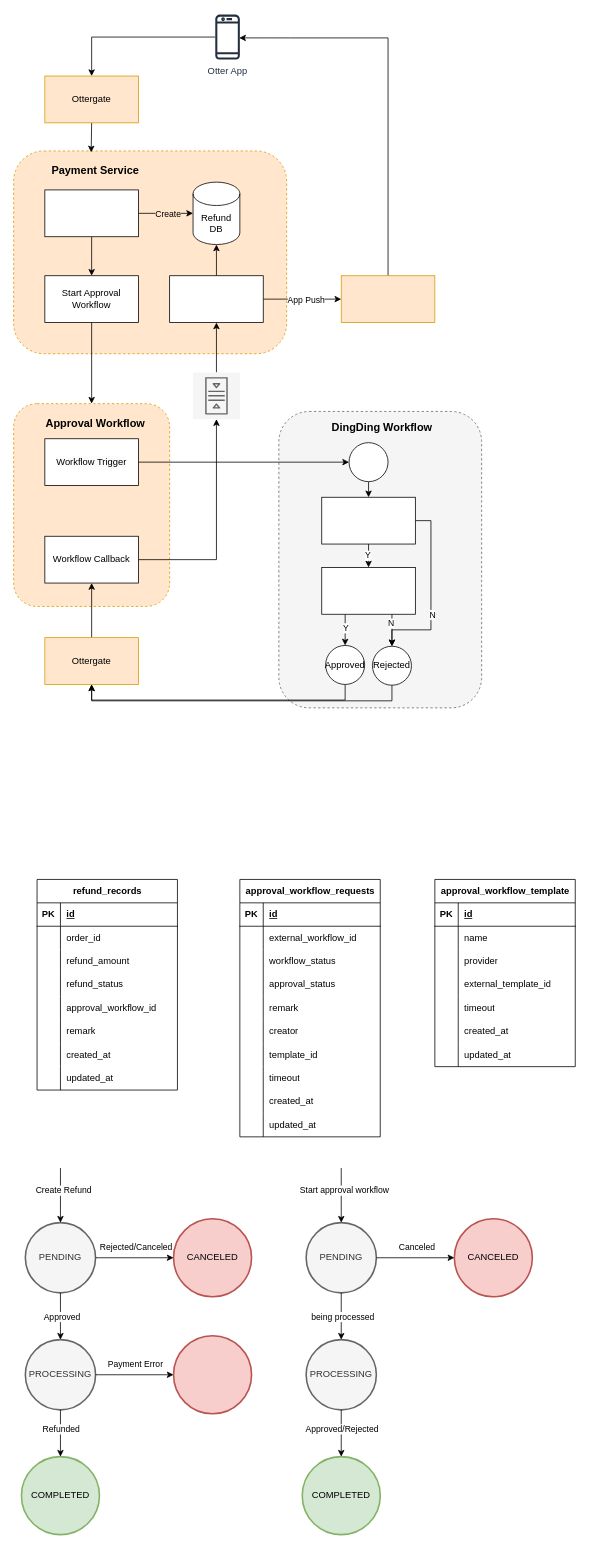
This 589x1548 diagram has some shape labels left out. The shapes that lost their labels are listed below. From the top down, each one's centre as x and y in pixels, then its label:
At point (91, 213): "Refund Request".
At point (216, 299): "Approval Status Event Consumer".
At point (387, 299): "Notification Center".
At point (216, 395): "Queue".
At point (368, 462): "Start".
At point (368, 520): "Approver L1".
At point (368, 590): "Approver LN".
At point (212, 1374): "FAILED".
